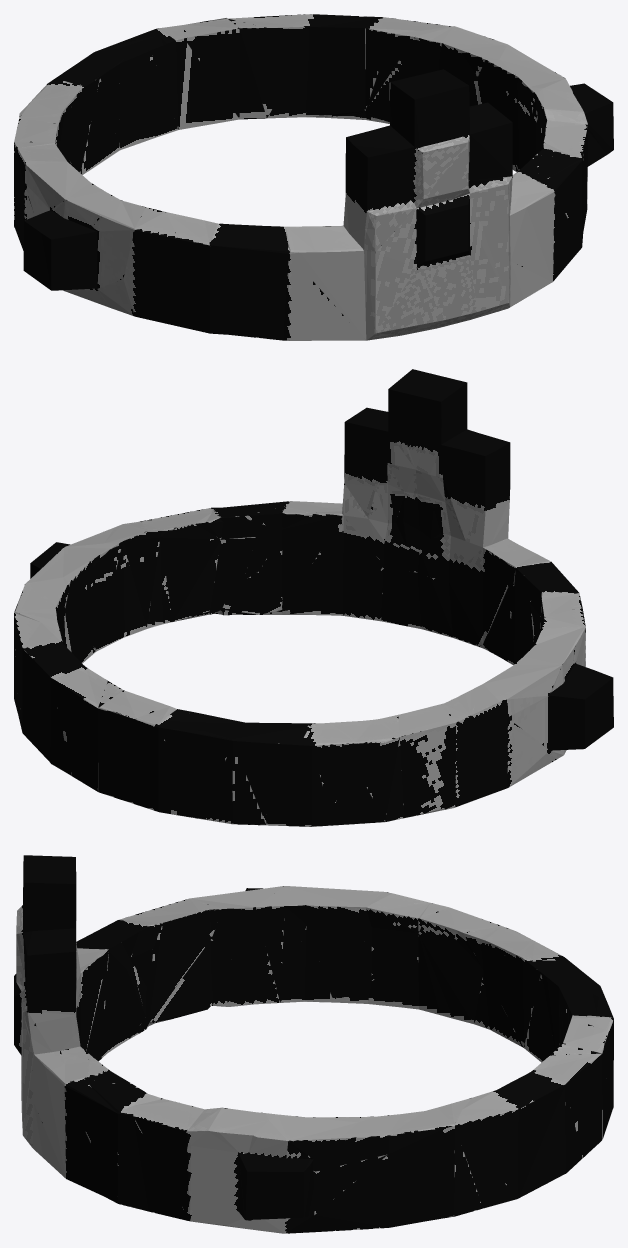
3 renders of one model, top to bottom at view 1: azimuth 30°, elevation 25°; view 2: azimuth 150°, elevation 25°; view 3: azimuth 270°, elevation 25°, orthographic. The views are drawn at different scales.
Parts seen in each view (by area): view 1: OBJ032; view 2: OBJ032; view 3: OBJ032.
Boxes of the visible parts, x1,y1,x2,y2 form: OBJ032: (14, 14, 613, 340); OBJ032: (14, 369, 613, 826); OBJ032: (14, 855, 613, 1233).
Size of the model in its own units: 0.2323 by 0.0947 by 0.2078.
1 material, 1 textured.
